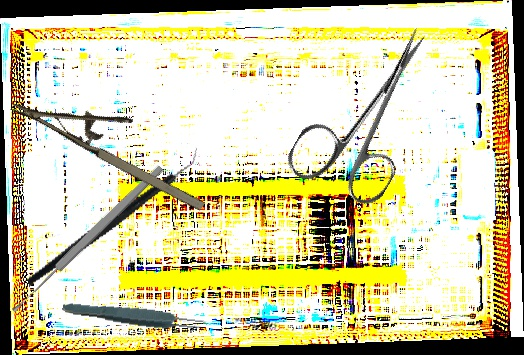Chopper: (3, 143, 222, 289)
Iris Scissors: (281, 4, 464, 218)
Needle Holder: (10, 63, 223, 218)
Surgical Spoon: (8, 163, 166, 315)
Tissue Forceps: (61, 298, 207, 335)
